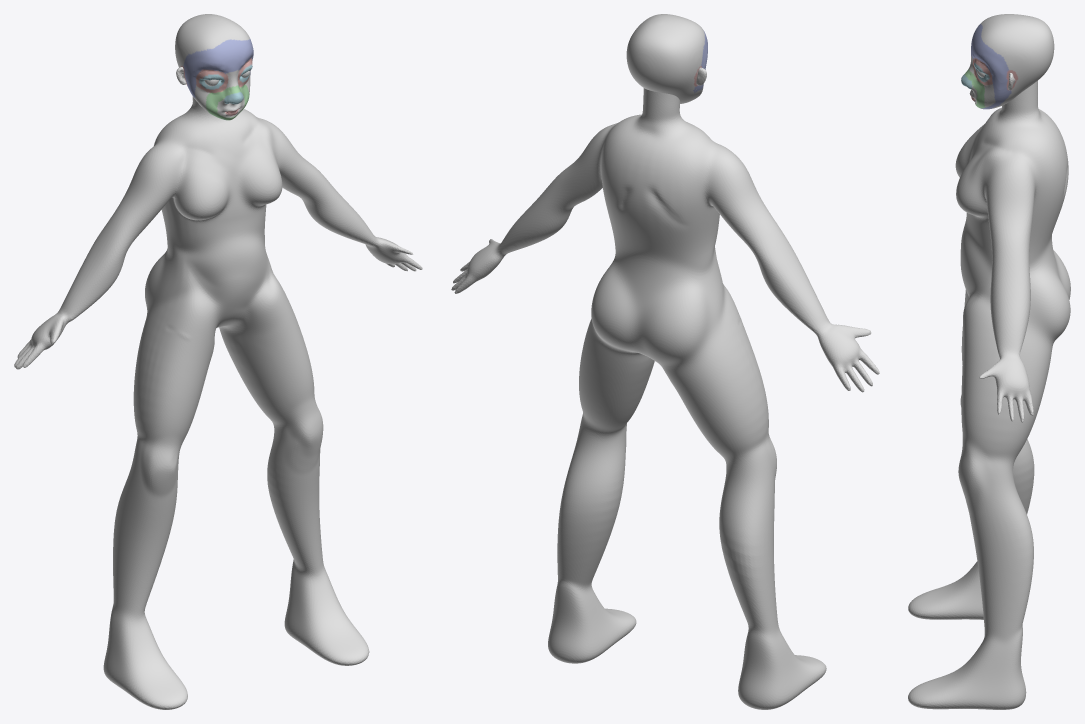
File: GardenerNPC.fbx
3 renders of one model, left to right at view 1: azimuth 30°, elevation 25°; view 2: azimuth 150°, elevation 25°; view 3: azimuth 270°, elevation 25°, orthographic. The views are drawn at different scales.
Parts seen in each view (by area): view 1: Cube.001, Cube; view 2: Cube.001, Cube; view 3: Cube.001, Cube.
Part boxes in pixels (box(x1,y1,x2,y2)): Cube.001: box(14, 67, 422, 709); Cube: box(175, 14, 253, 120); Cube.001: box(451, 67, 879, 709); Cube: box(626, 14, 707, 103); Cube.001: box(908, 73, 1070, 709); Cube: box(961, 14, 1054, 109).
Size of the model in its own units: 605 by 915 by 211.
